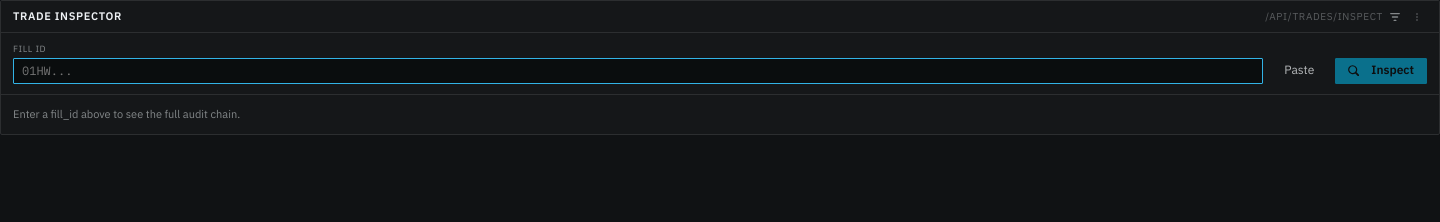
Test: InspectorPanel (QF-229) › shows a friendly 404 message for unknown fill_id
In the field with placeholder "01HW...": (638,71) [13,58,1263,84], type "01HW-DOES-NOT-EXIST"
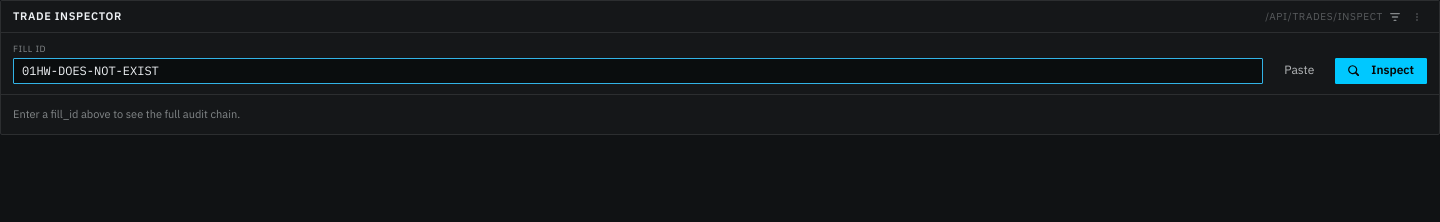
Click the button "Inspect": (1381,71) [1335,58,1427,84]
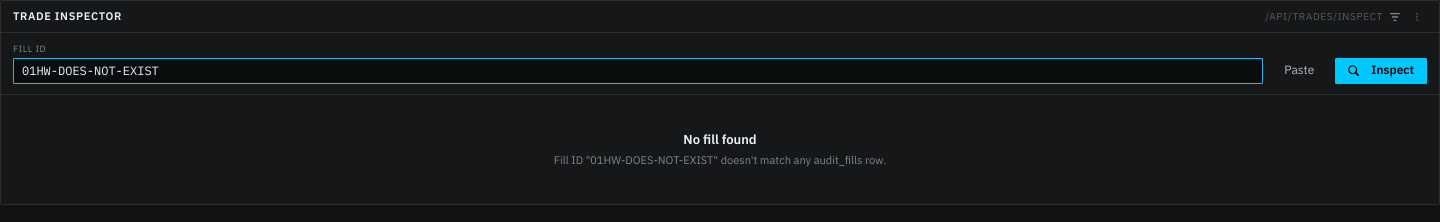
Expected: the text "No fill found" is shown, [683,131,757,148]
Expected: the text "01HW-DOES-NOT-EXIST" is shown, [554,153,886,167]
